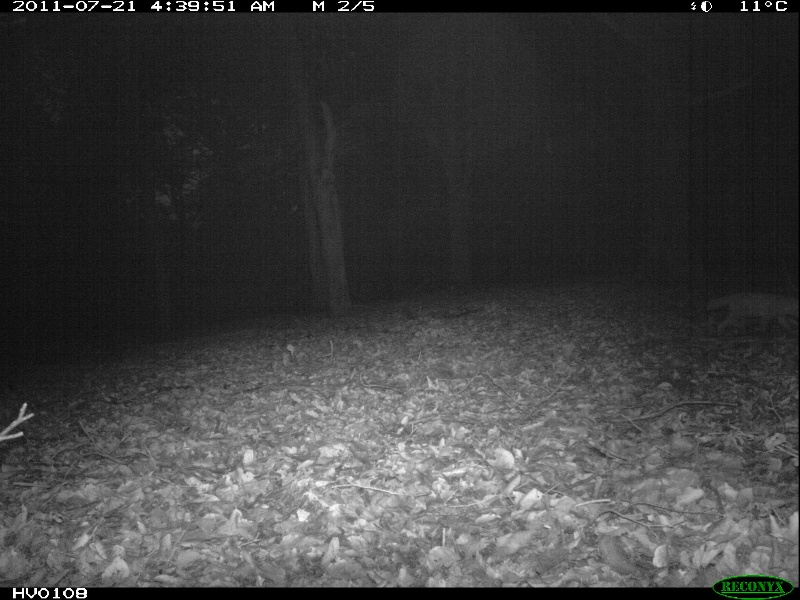fox: (708, 288, 800, 342)
